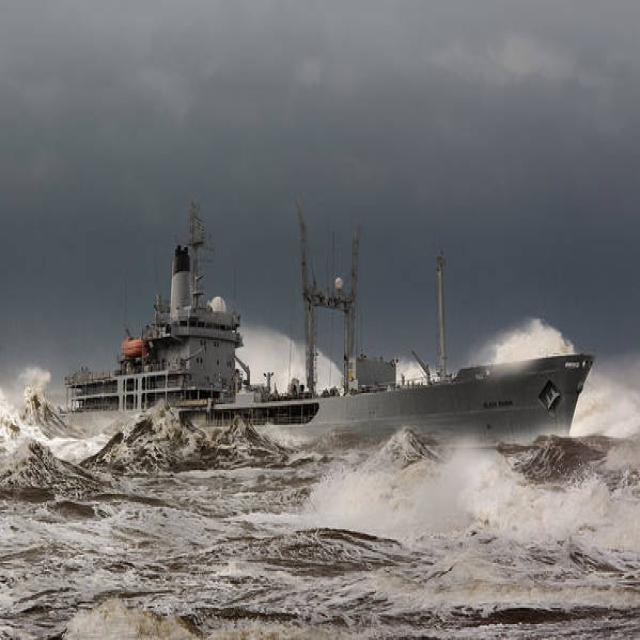navalvessels: (37, 183, 595, 468)
